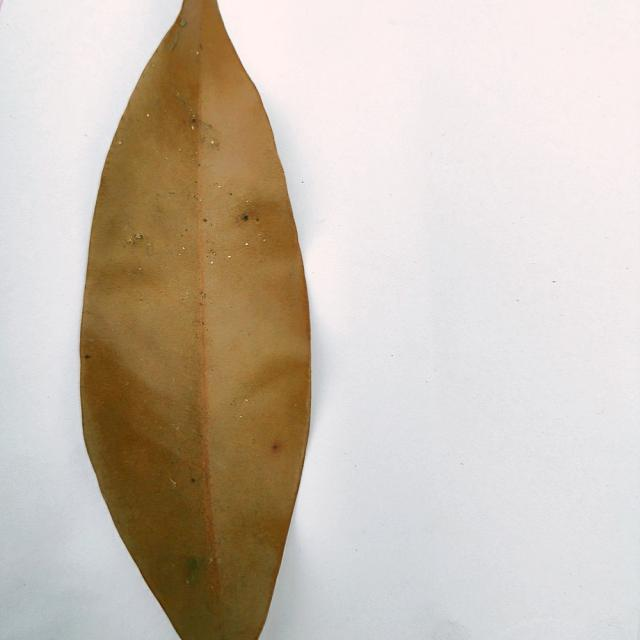Dry_Leaf-Lychee: (78, 0, 313, 639)
